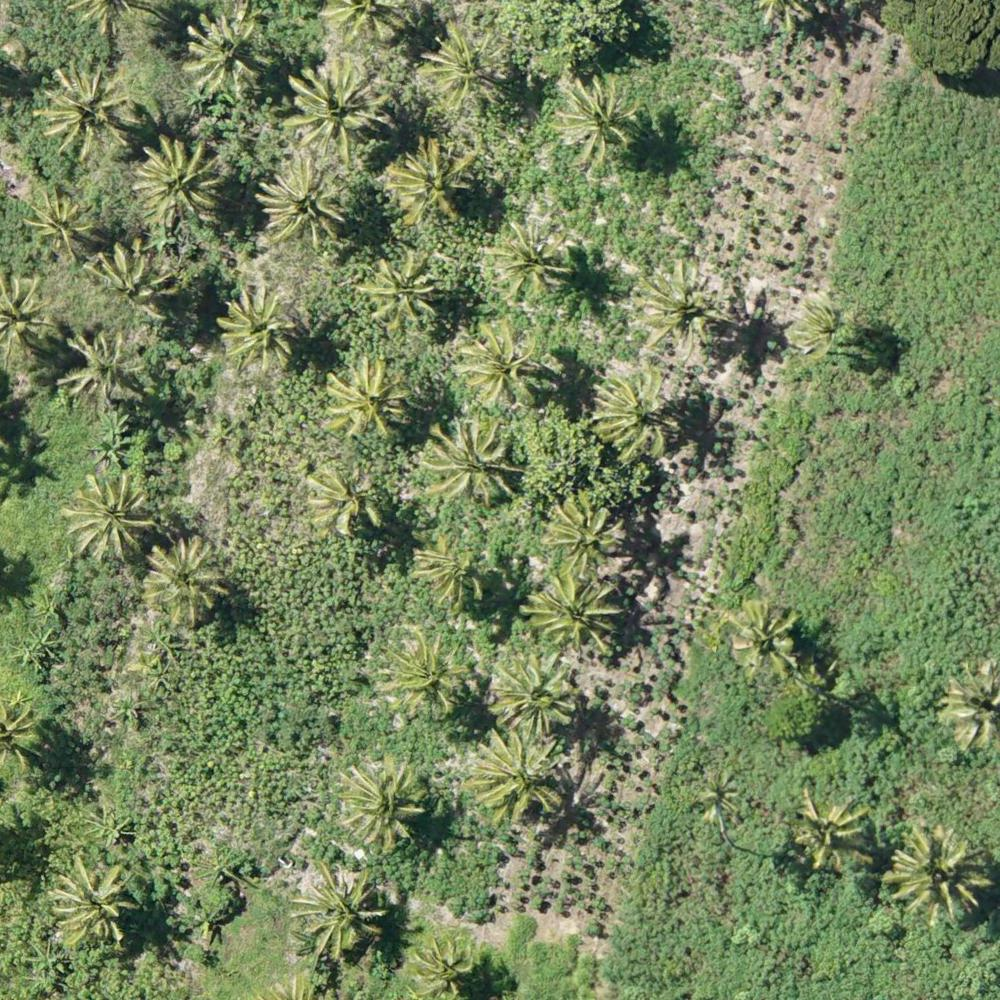not plam: (189, 890, 264, 961), (712, 117, 785, 189), (8, 608, 81, 679), (781, 204, 852, 276), (154, 772, 229, 840), (883, 209, 955, 279), (109, 674, 183, 741), (179, 440, 253, 507), (248, 679, 321, 746), (642, 677, 711, 747), (589, 864, 660, 932), (724, 520, 797, 585), (912, 407, 985, 471), (779, 922, 851, 986), (269, 567, 337, 634), (804, 76, 872, 143), (926, 533, 995, 599), (918, 114, 986, 179), (731, 444, 799, 509), (659, 1, 729, 64), (931, 6, 997, 65)
